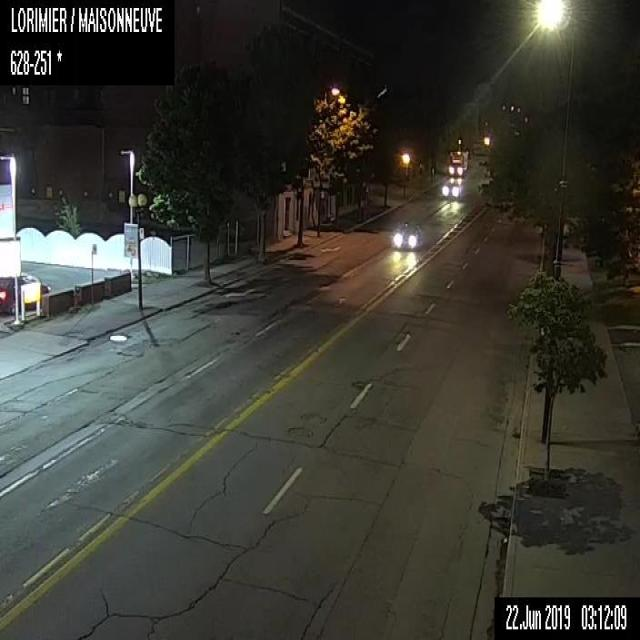pedestrian: (429, 161, 435, 181)
vehicle: (390, 222, 421, 250), (447, 149, 468, 175), (440, 176, 462, 199)
